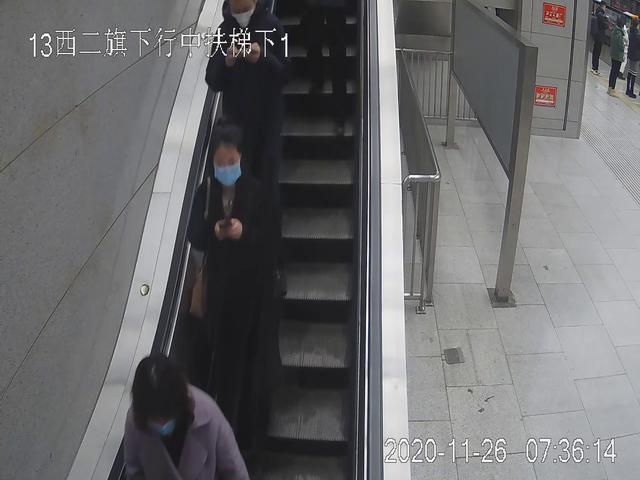person: (186, 118, 281, 451), (207, 1, 287, 245), (120, 353, 250, 480), (608, 16, 623, 96), (589, 2, 605, 74)
